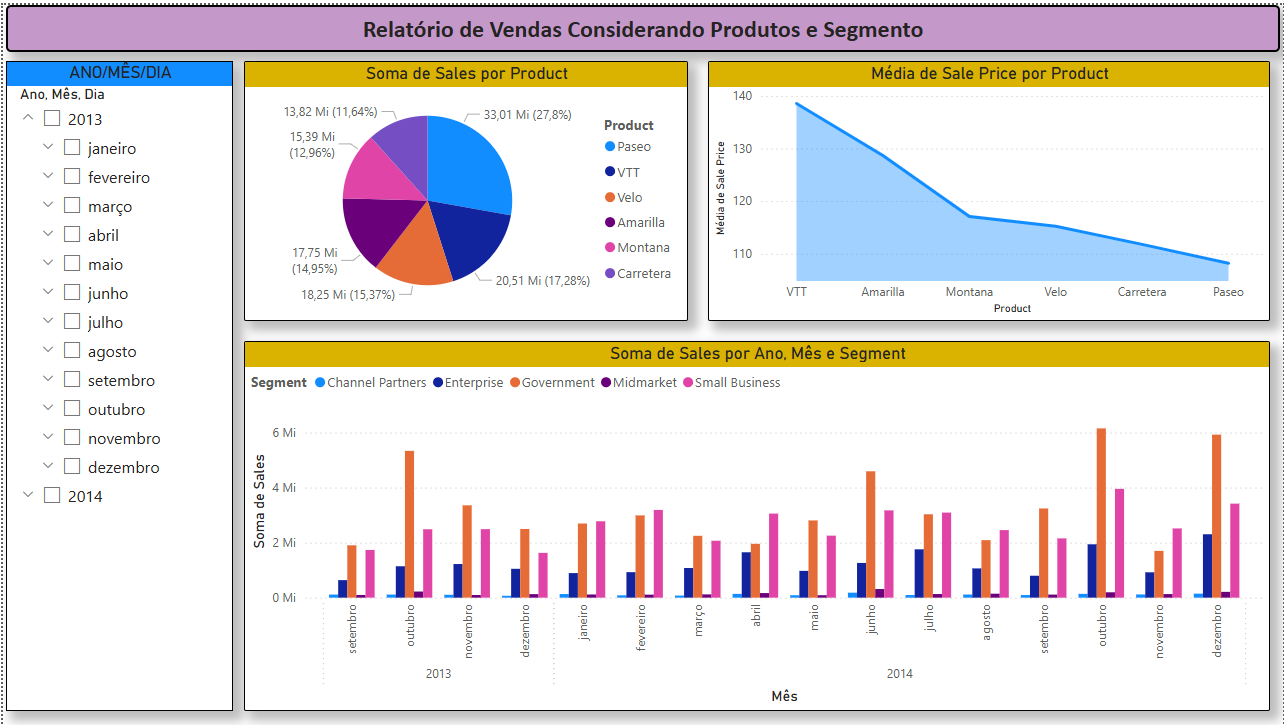

Layout of this report page (visuals, bound fields, positions):
{"tool":"powerbi","page":{"name":"Página 1","canvas":[1280,720],"ordinal":0},"visuals":[{"type":"textbox","box":[2.7,0,1274.1,47.2],"z":0},{"type":"slicer","title":"ANO/MÊS/DIA","fields":{"Values":["financials.Date.Variation.Hierarquia de datas.Ano","financials.Date.Variation.Hierarquia de datas.Mês","financials.Date.Variation.Hierarquia de datas.Dia"]},"box":[2.7,56.2,227.6,650.2],"z":1000},{"type":"pieChart","fields":{"Category":["financials.Product"],"Y":["Sum(financials.Sales)"]},"box":[241.2,56.2,443.4,259.3],"z":2000},{"type":"areaChart","fields":{"Category":["financials.Product"],"Y":["Avg(financials.Sale Price)"]},"box":[704.6,56.2,562.2,259.3],"z":3000},{"type":"clusteredColumnChart","fields":{"Category":["financials.Date.Variation.Hierarquia de datas.Ano","financials.Date.Variation.Hierarquia de datas.Mês"],"Series":["financials.Segment"],"Y":["Sum(financials.Sales)"]},"box":[241.2,336.4,1025.6,370],"z":4000}]}

Visuals, with their boxes in screenshot pixels (x1, y1, x2, y2), scaled from the page's 1280x720 canvas onto the 1284x725 screenshot:
textbox: x1=3 y1=0 x2=1281 y2=48
"ANO/MÊS/DIA" slicer: x1=3 y1=57 x2=231 y2=711
pieChart - financials.Product x Sum(financials.Sales): x1=242 y1=57 x2=687 y2=318
areaChart - financials.Product x Avg(financials.Sale Price): x1=707 y1=57 x2=1271 y2=318
clusteredColumnChart - financials.Date.Variation.Hierarquia de datas.Ano x financials.Date.Variation.Hierarquia de datas.Mês: x1=242 y1=339 x2=1271 y2=711
